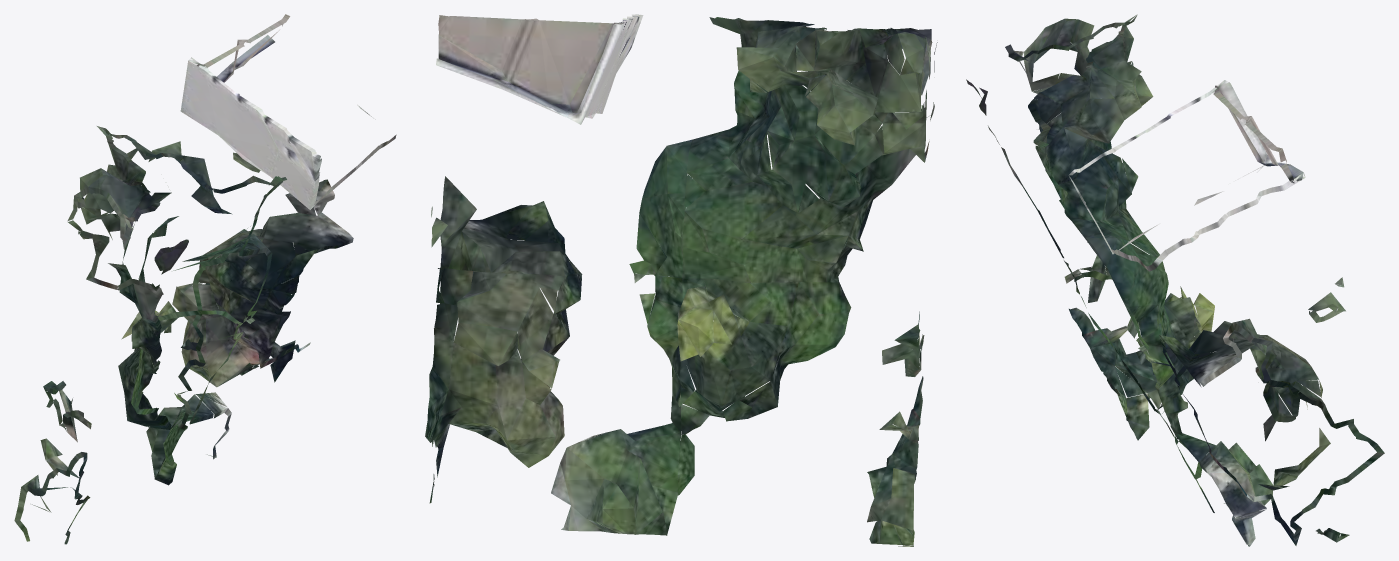
Rendered from AJVsH2xu_imLpQff16DtGVFQftqYWVabfCnKqt1nQPDvl6IqpUQ7PDfYgXTBWz4c5h3mefTT2cAgydslwAvD17ok_CIxj7fiSJm8Yl8d3k0TFsaoR5Q-DXKOYEWVNBdVVMvufFsXlC5-HGO7TfRnd0aDYy1-.glb.
The picture shows the model from 3 angles, left to right: view 1: azimuth 30°, elevation 25°; view 2: azimuth 150°, elevation 25°; view 3: azimuth 270°, elevation 25°; orthographic projection. The views are drawn at different scales.
Size of the model in its own units: 39.13 by 41.22 by 34.95.
2 materials, 2 textured.
